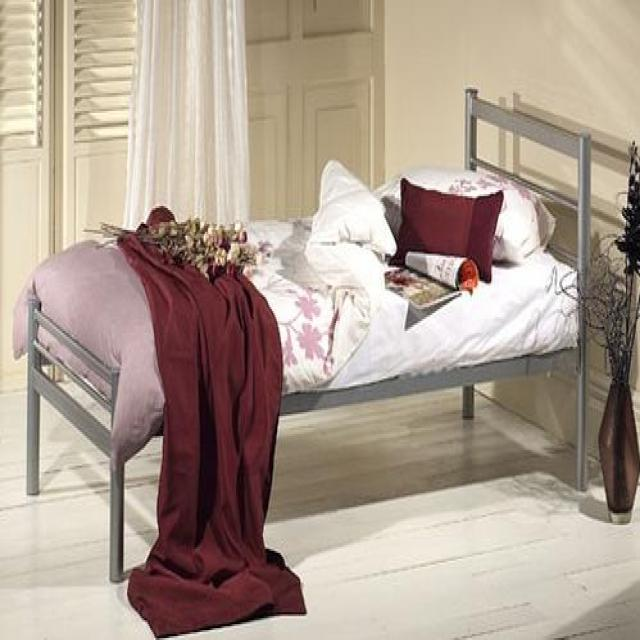bed: (15, 85, 594, 583)
